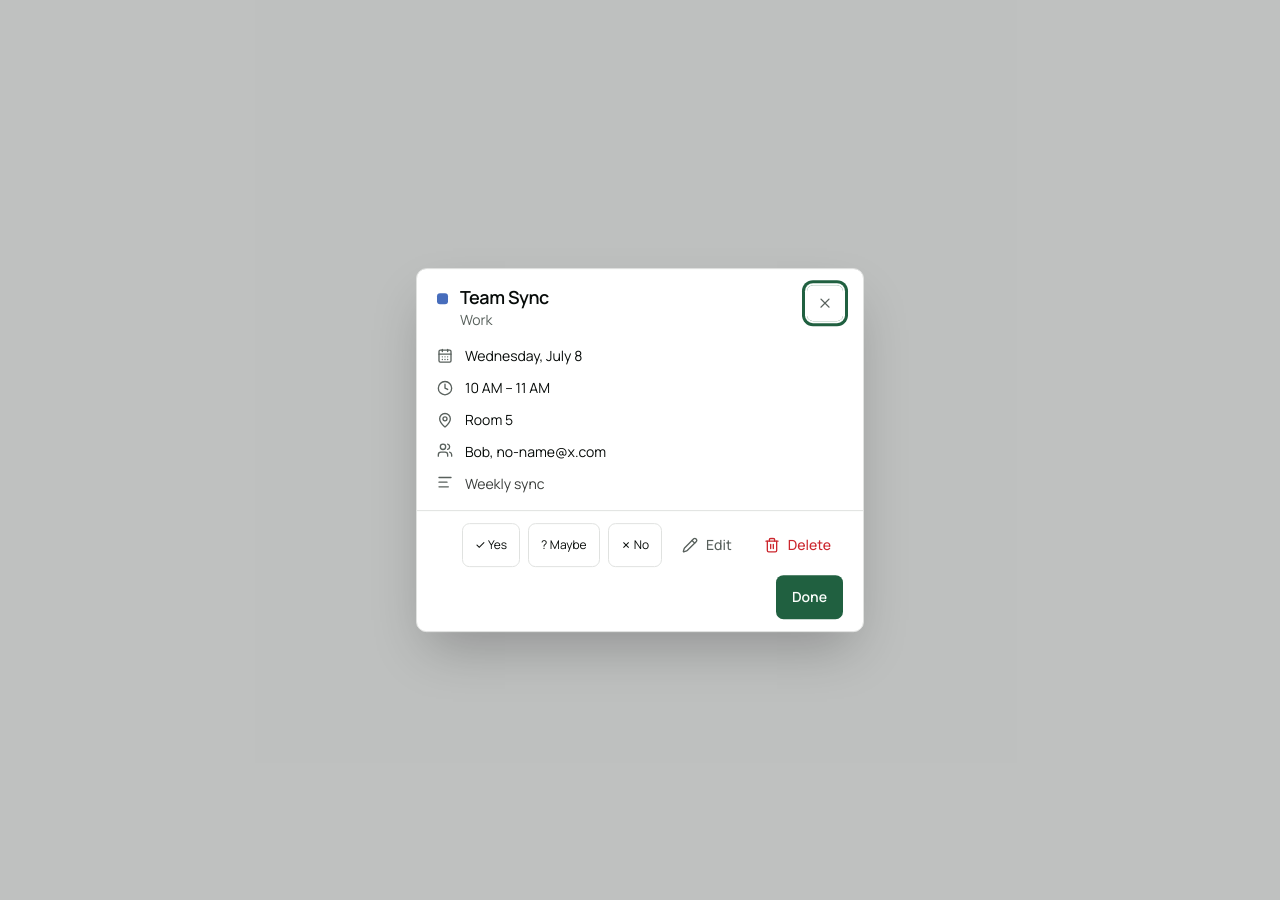
Test: EventModal — existing event › surfaces an RSVP failure without closing
Click the button "✓ Yes". click: (491, 545)
box: top-left (462, 523), bottom-right (520, 567)
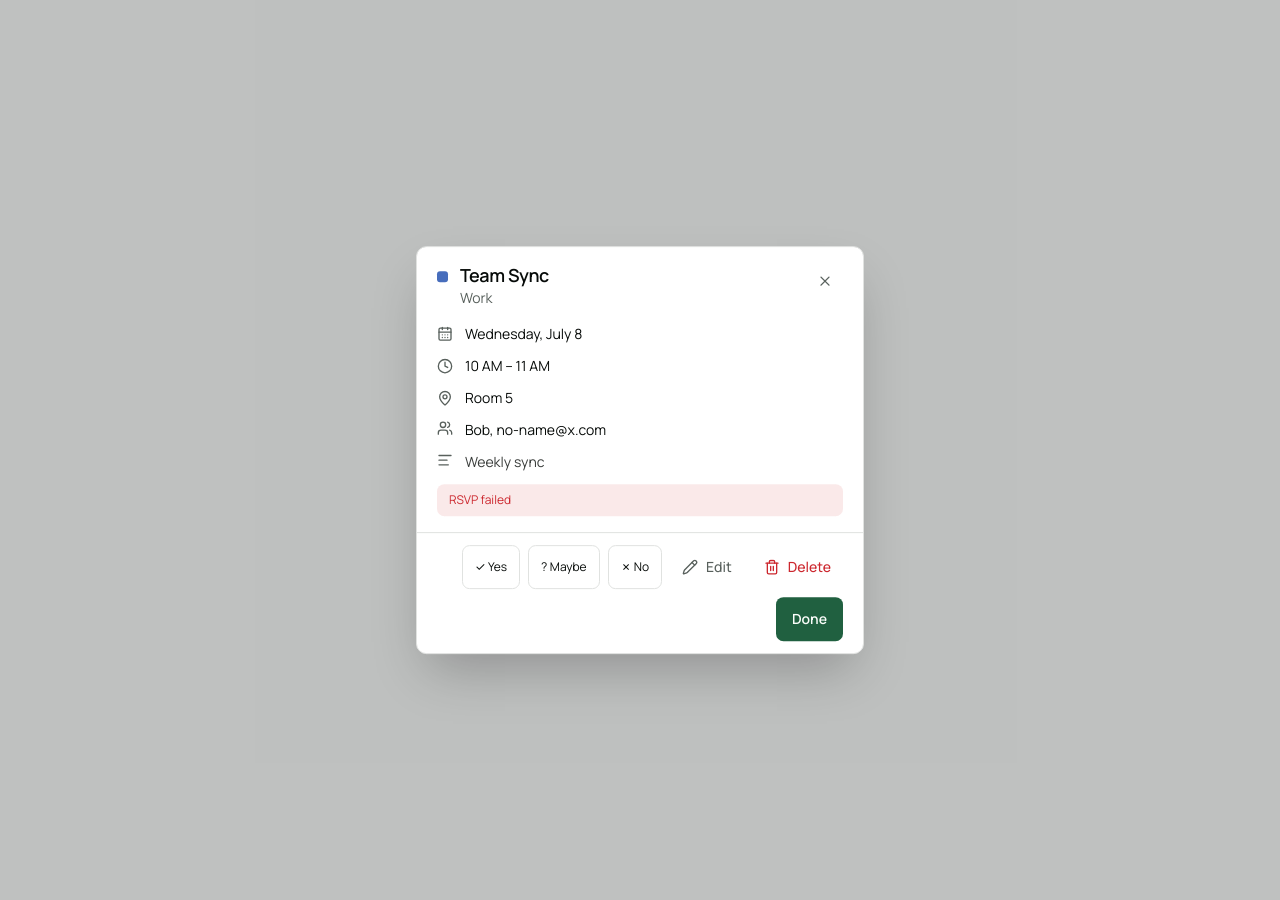
Now the text "RSVP failed" is shown, box top-left (437, 484), bottom-right (843, 516)
